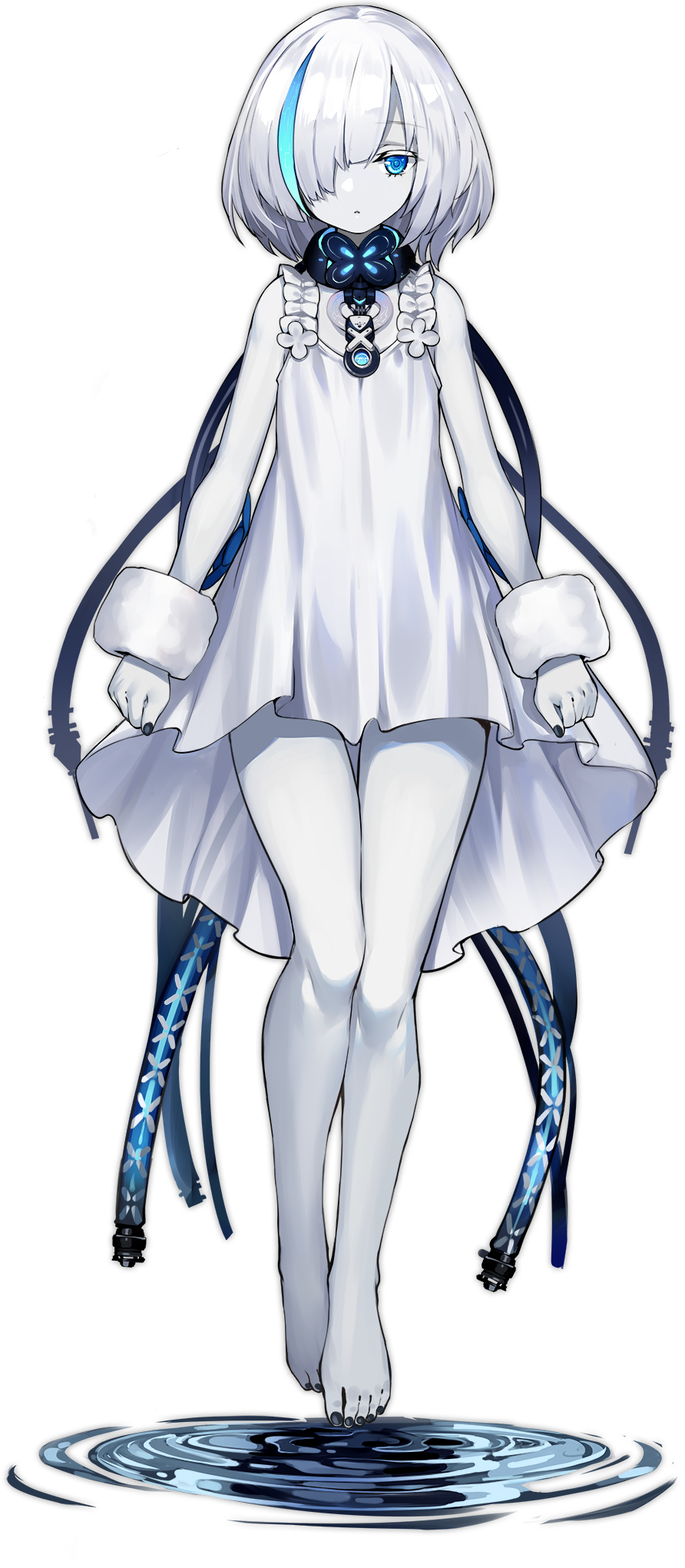person: (2, 0, 684, 1407)
